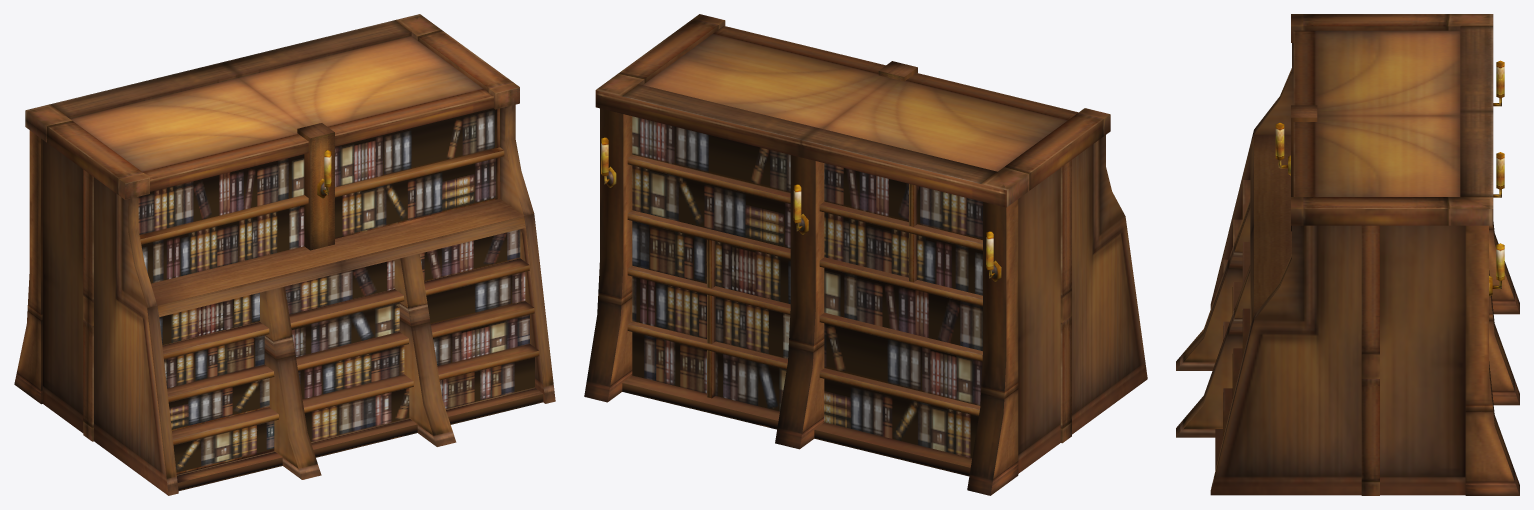
File: a_bookcase06.glb
3 views of the same model, side by side, from view 1: azimuth 30°, elevation 25°; view 2: azimuth 150°, elevation 25°; view 3: azimuth 270°, elevation 25° (orthographic). The views are drawn at different scales.
Parts seen in each view (by area): view 1: a_bookcase06; view 2: a_bookcase06; view 3: a_bookcase06.
Boxes of the visible parts, x1,y1,x2,y2 form: a_bookcase06: (14,14,555,495); a_bookcase06: (584,14,1147,495); a_bookcase06: (1176,14,1519,495).
Size of the model in its own units: 3.99 by 2.74 by 2.97.
Materials: 3 (3 with a texture image).
